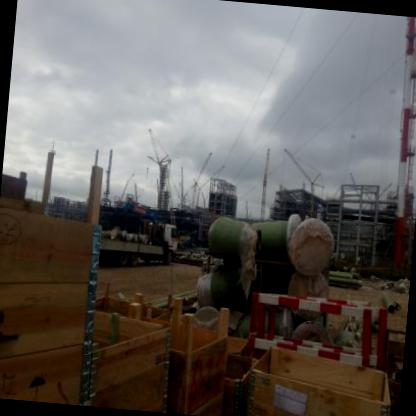truck: (100, 211, 181, 267)
